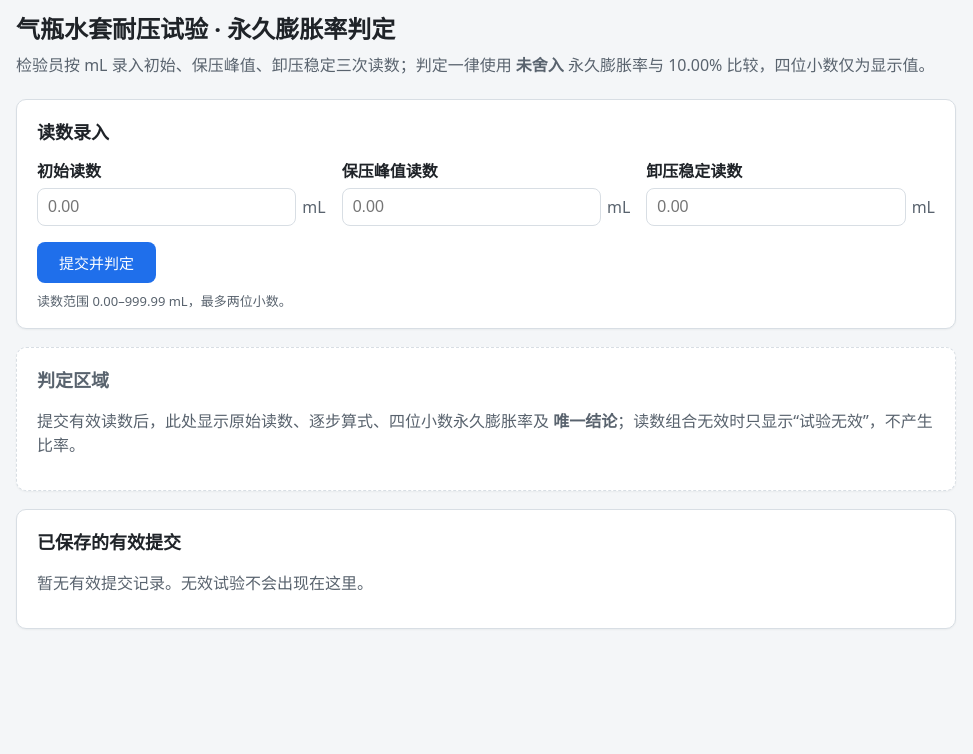
App 判定流程（fetch 为接缝，展示与交互全真实） › 无小数读数（10/20/11）：后端规范化为 10.00 返回时仍正常显示结论并解除等待
This screenshot has width=973, height=754.
Type "10" into the field with test id "input-initial".
click(167, 207); type("10")  # box 37,188 -> 296,226
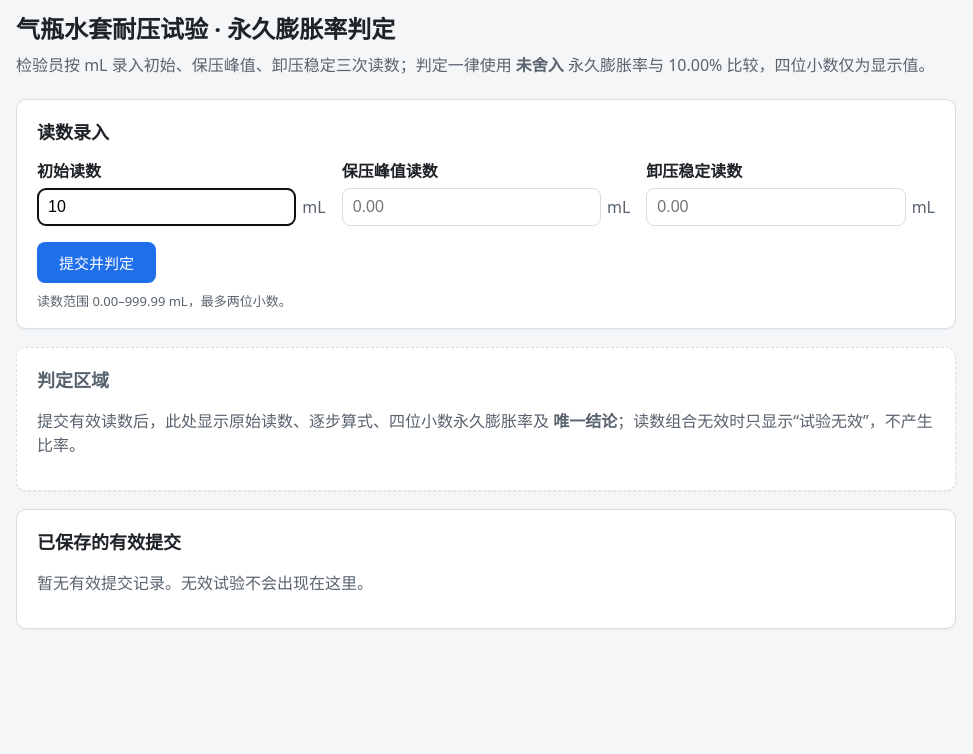
Type "20" into the field with test id "input-peak".
click(471, 207); type("20")  # box 342,188 -> 601,226
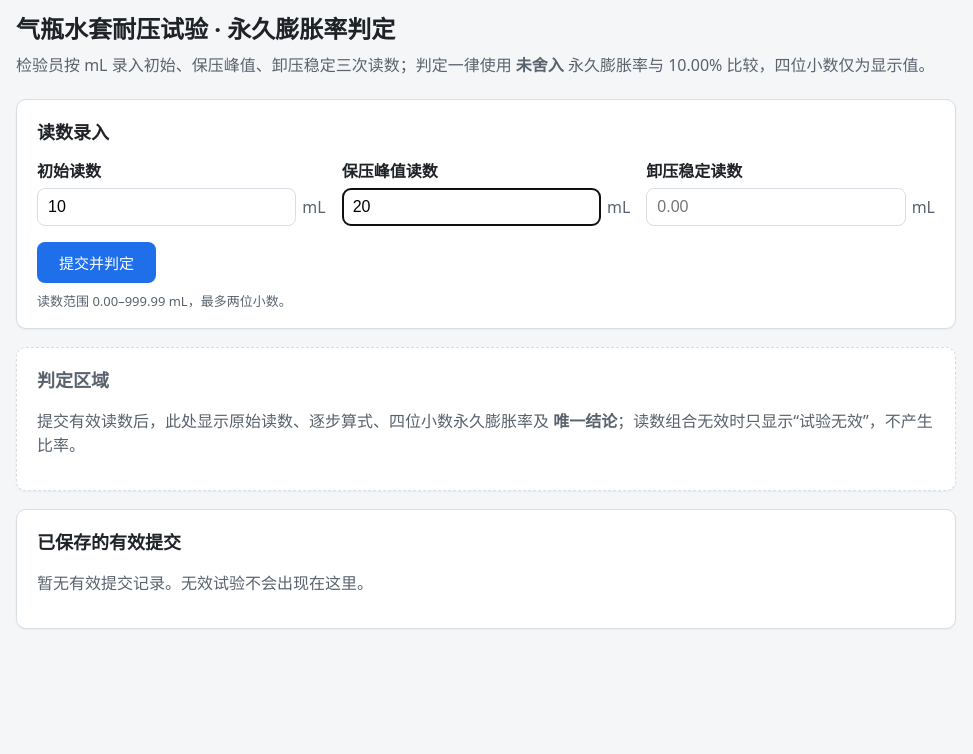
Type "11" into the field with test id "input-released".
click(776, 207); type("11")  # box 646,188 -> 906,226
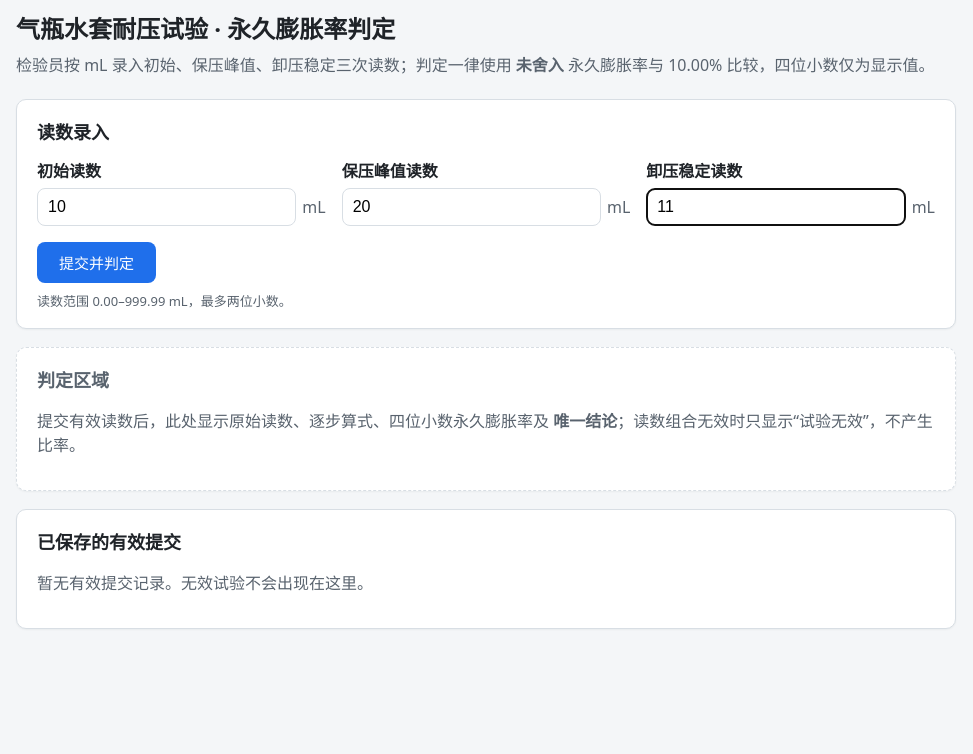
Click the button with test id "submit-button".
click(96, 262)  # box 37,242 -> 156,283
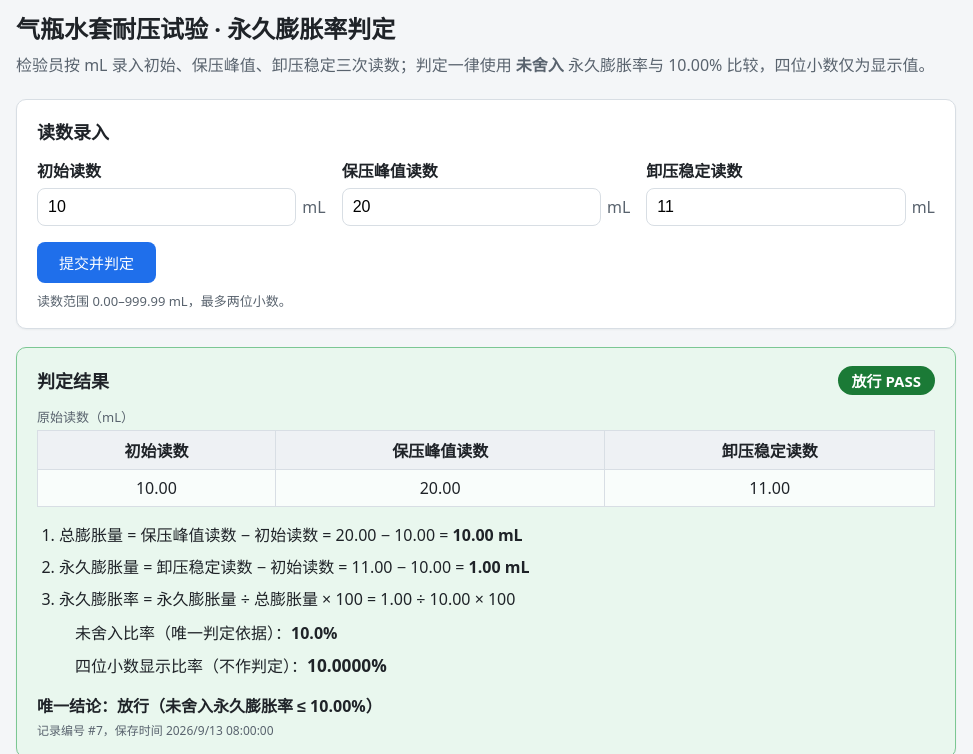
Now the cell with test id "show-initial" reads "10.00", box 136,477 -> 177,499
Now the text with test id "ratio-display" reads "10.0000%", box 307,654 -> 387,677
